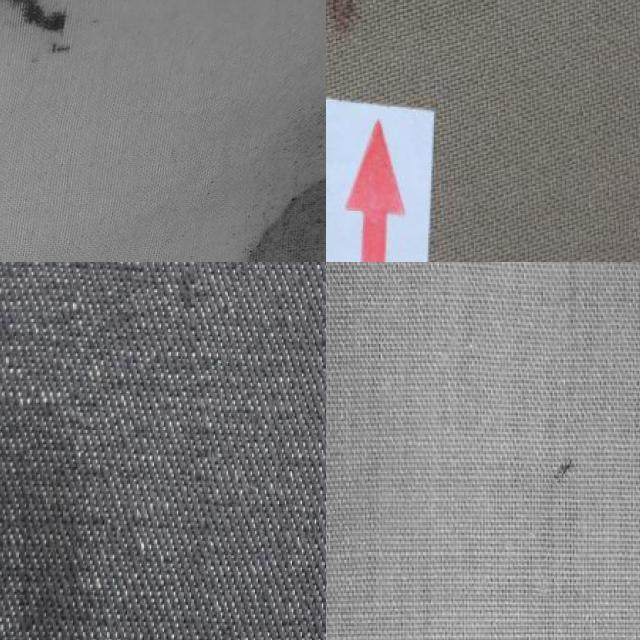Thread_other: (194, 111, 326, 262), (506, 428, 640, 505)
